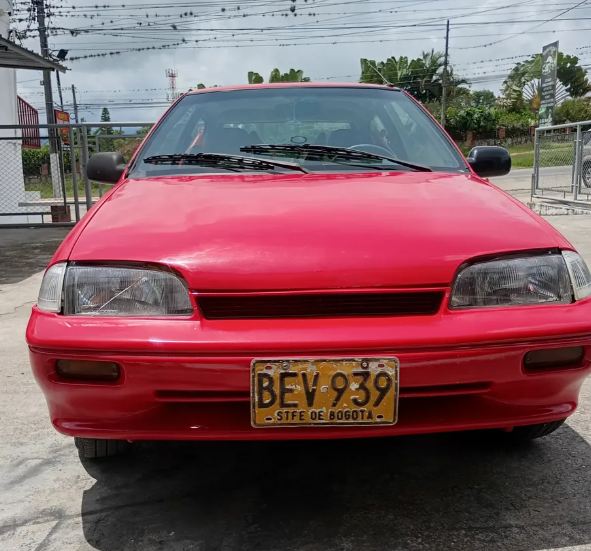placa: (249, 359, 399, 425)
